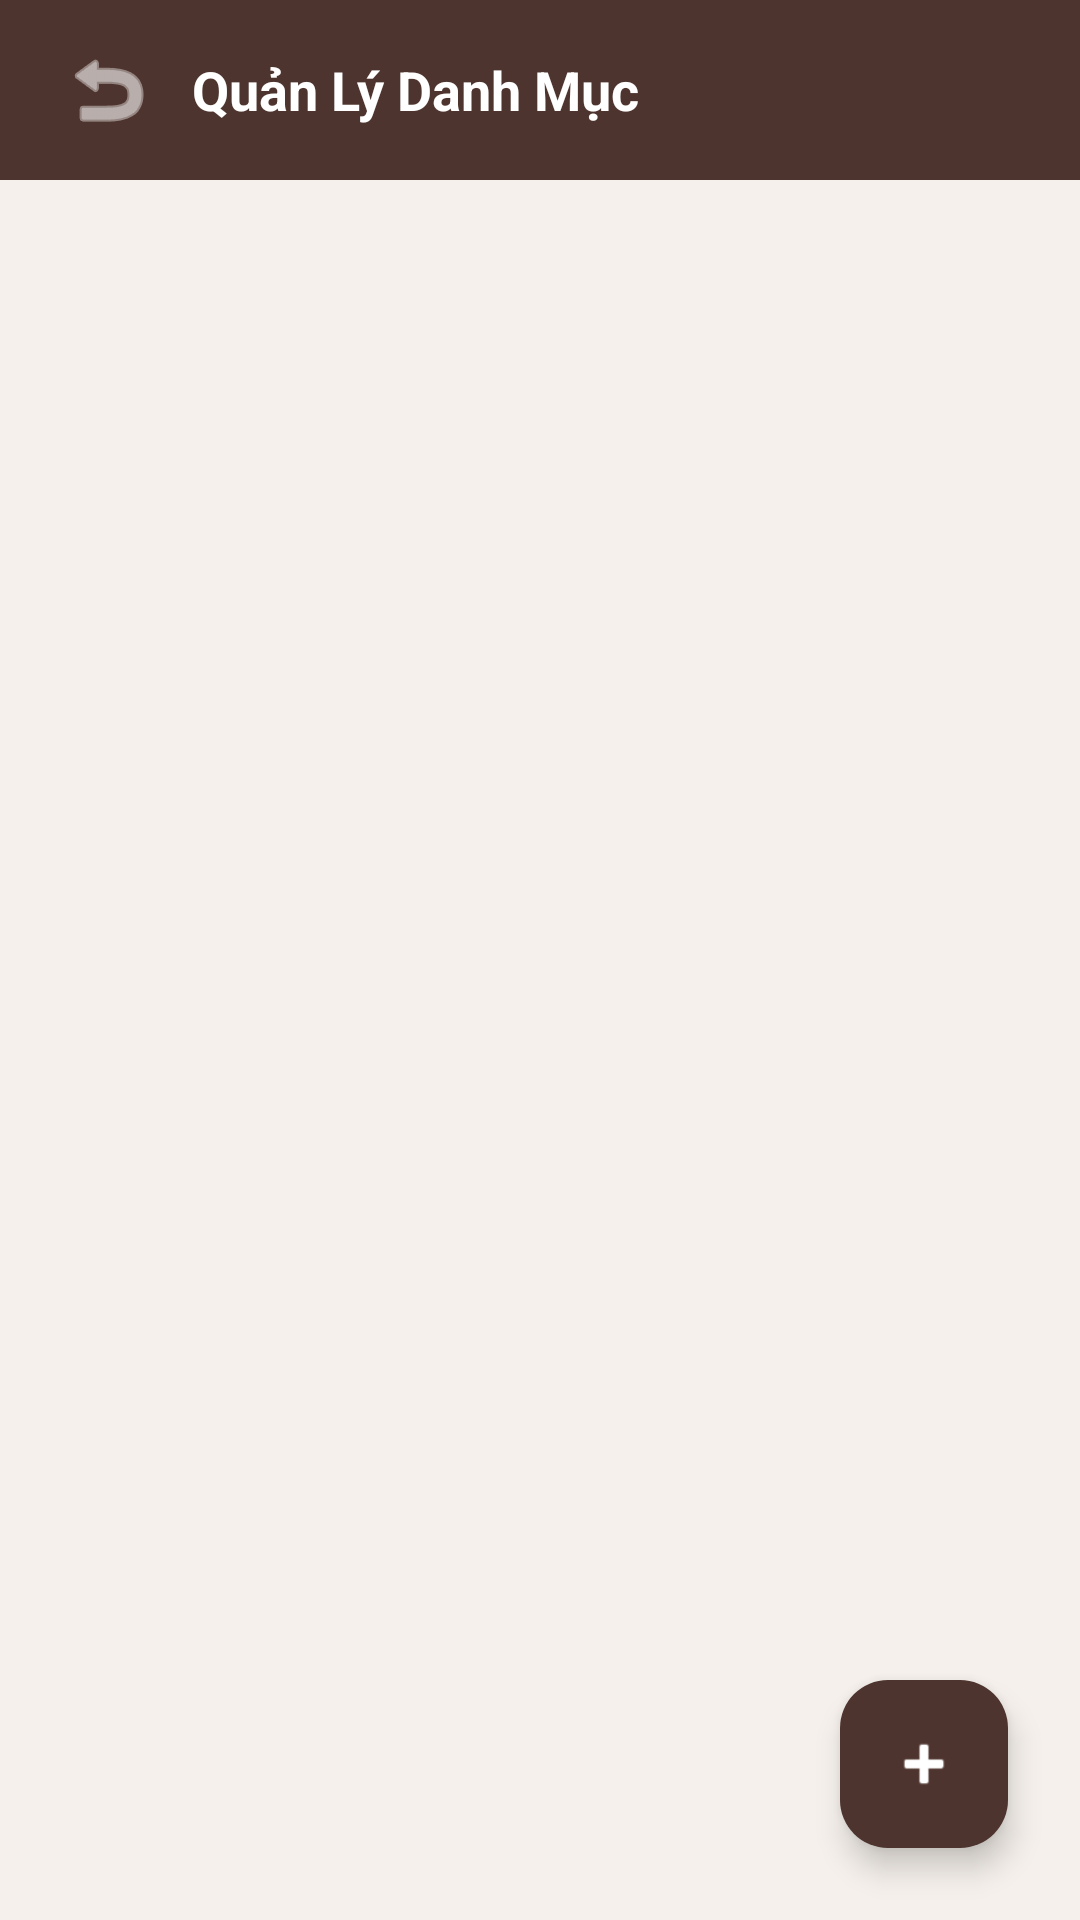

Icons on this 1080w x 1920h Android screen, each with the point to tap as (x,y):
add: (924,1764)
revert: (109,90)
